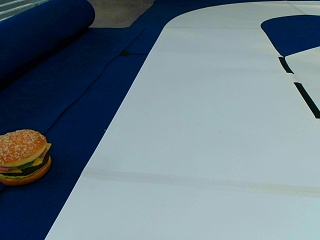burger: (0, 127, 52, 185)
